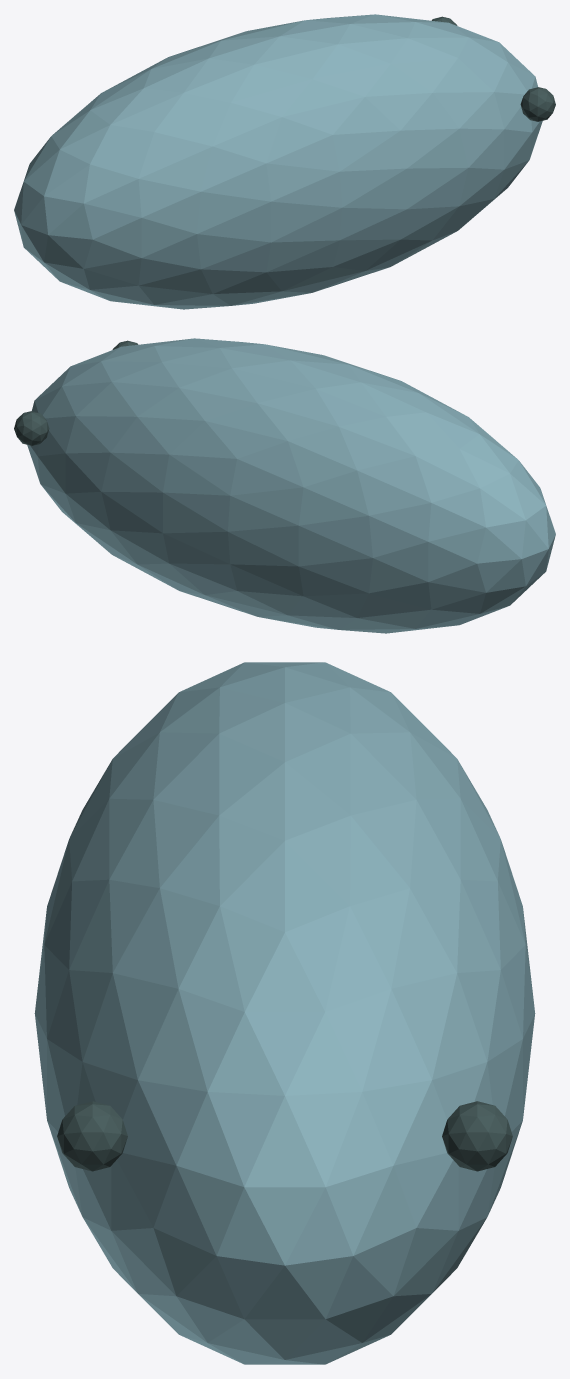
File: fish-high.glb
3 views of the same model, one above another, from view 1: azimuth 30°, elevation 25°; view 2: azimuth 150°, elevation 25°; view 3: azimuth 270°, elevation 25° (orthographic). The views are drawn at different scales.
Parts seen in each view (by area): view 1: body, eye2; view 2: body, eye; view 3: body, eye, eye2.
Boxes of the visible parts, x1,y1,x2,y2 form: body: (14,14,542,309); eye2: (520,87,555,121); body: (27,338,555,633); eye: (14,411,49,445); body: (34,662,535,1364); eye: (442,1101,512,1171); eye2: (57,1101,127,1171).
Size of the model in its own units: 1.18 by 0.5472 by 0.494.
